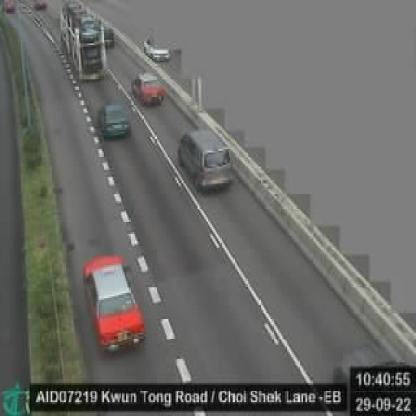Bus: (50, 0, 110, 81)
Car: (77, 253, 152, 352), (171, 127, 240, 194), (96, 101, 135, 140), (129, 69, 170, 106)
